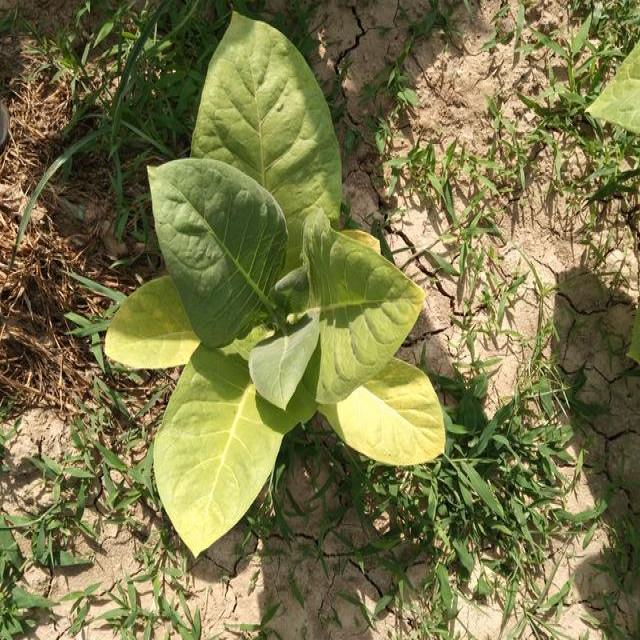crop: (98, 12, 450, 550)
